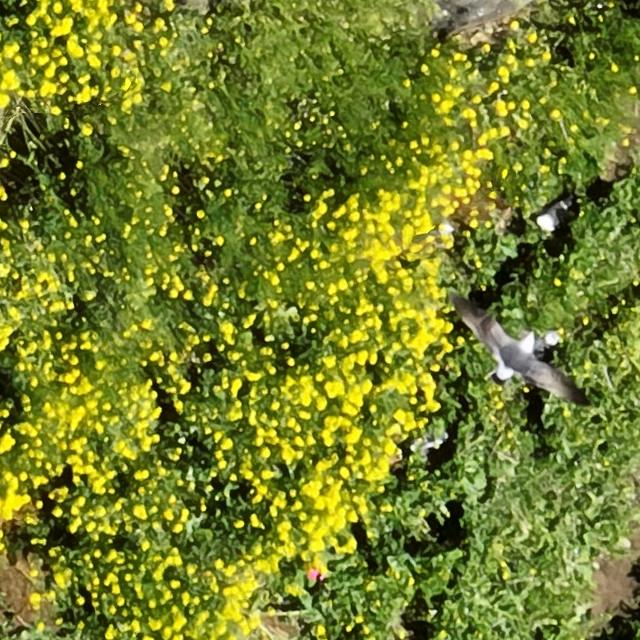F: (480, 320, 560, 387)
umineko: (538, 200, 564, 229)
